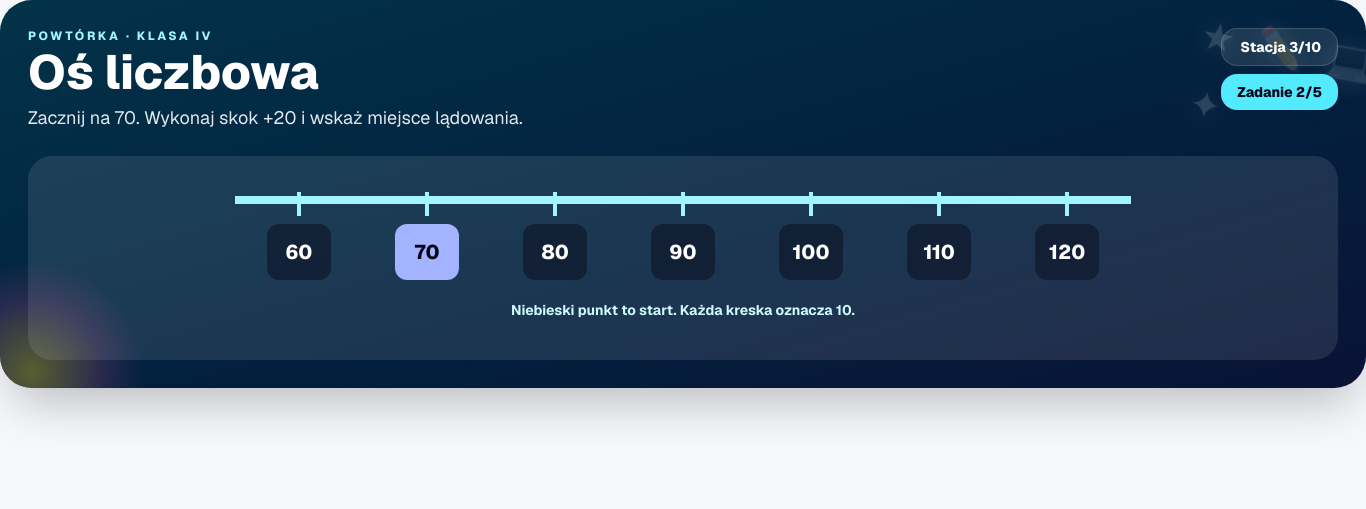
Test: ClassFourReviewModel › oś liczbowa ma losowane zadanie i zgłasza gotową odpowiedź
The width and height of the screenshot is (1366, 509).
Click the button "120" at coordinates (1067, 252), box [1035, 224, 1099, 280]
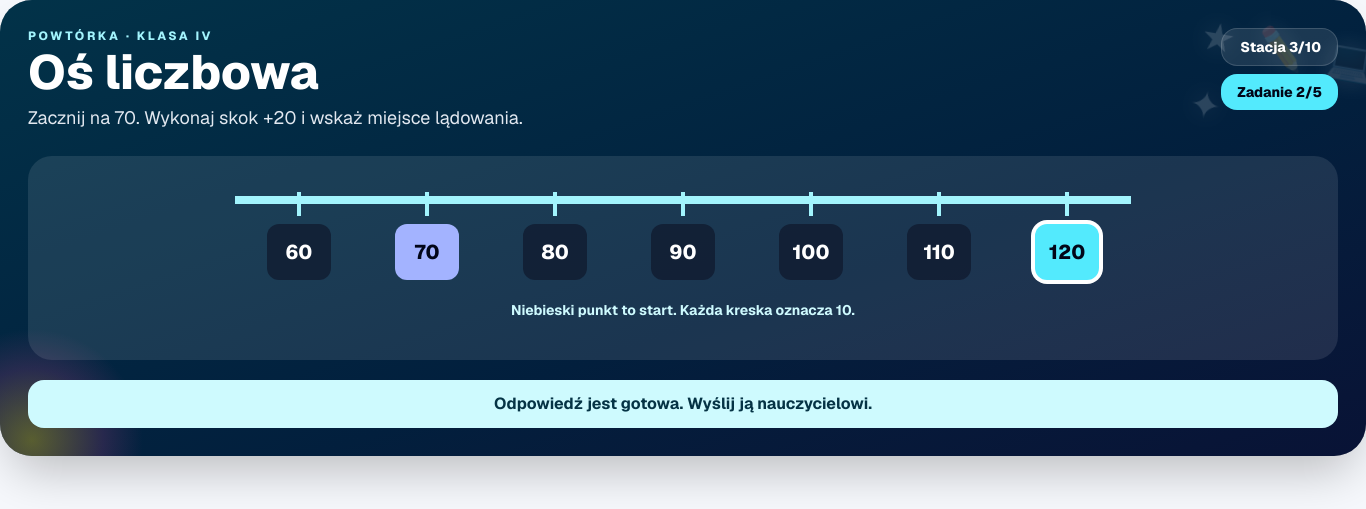
Check: the text "Zadanie 2/5" is shown, box [1221, 74, 1338, 110]
Check: the text "Odpowiedź jest gotowa. Wyślij ją nauczycielowi." is shown, box [28, 380, 1338, 428]
